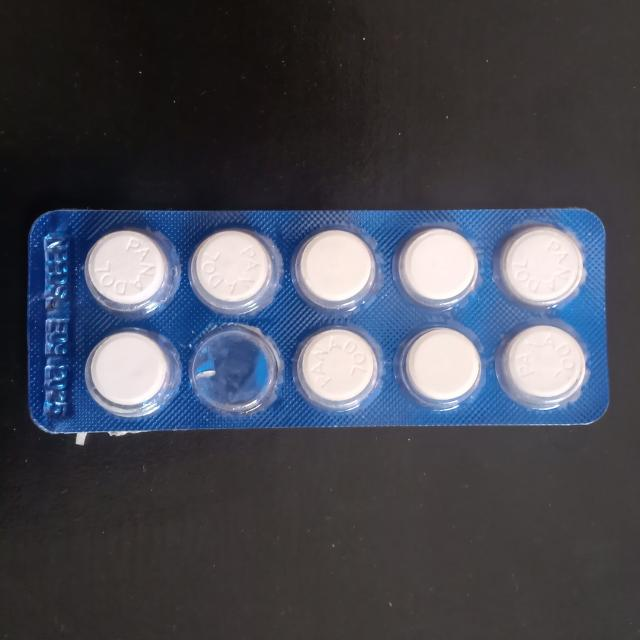defect: (189, 322, 282, 420)
